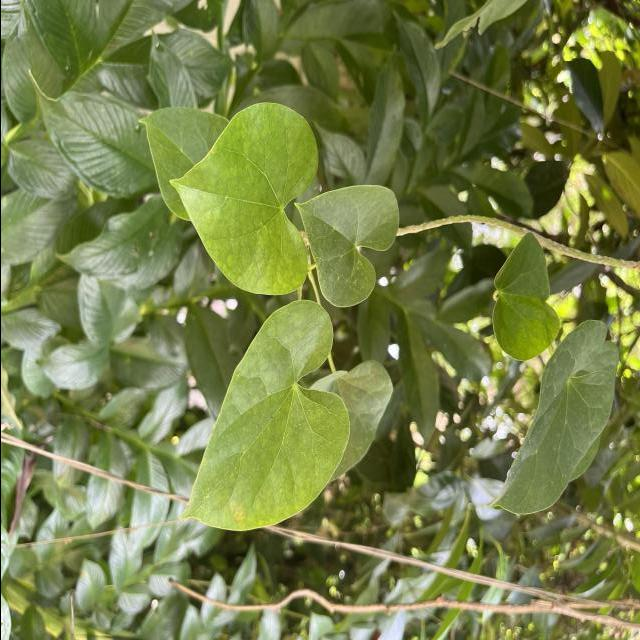Tinospora cordifolia: (176, 298, 352, 536), (166, 100, 321, 298), (292, 182, 402, 310)
